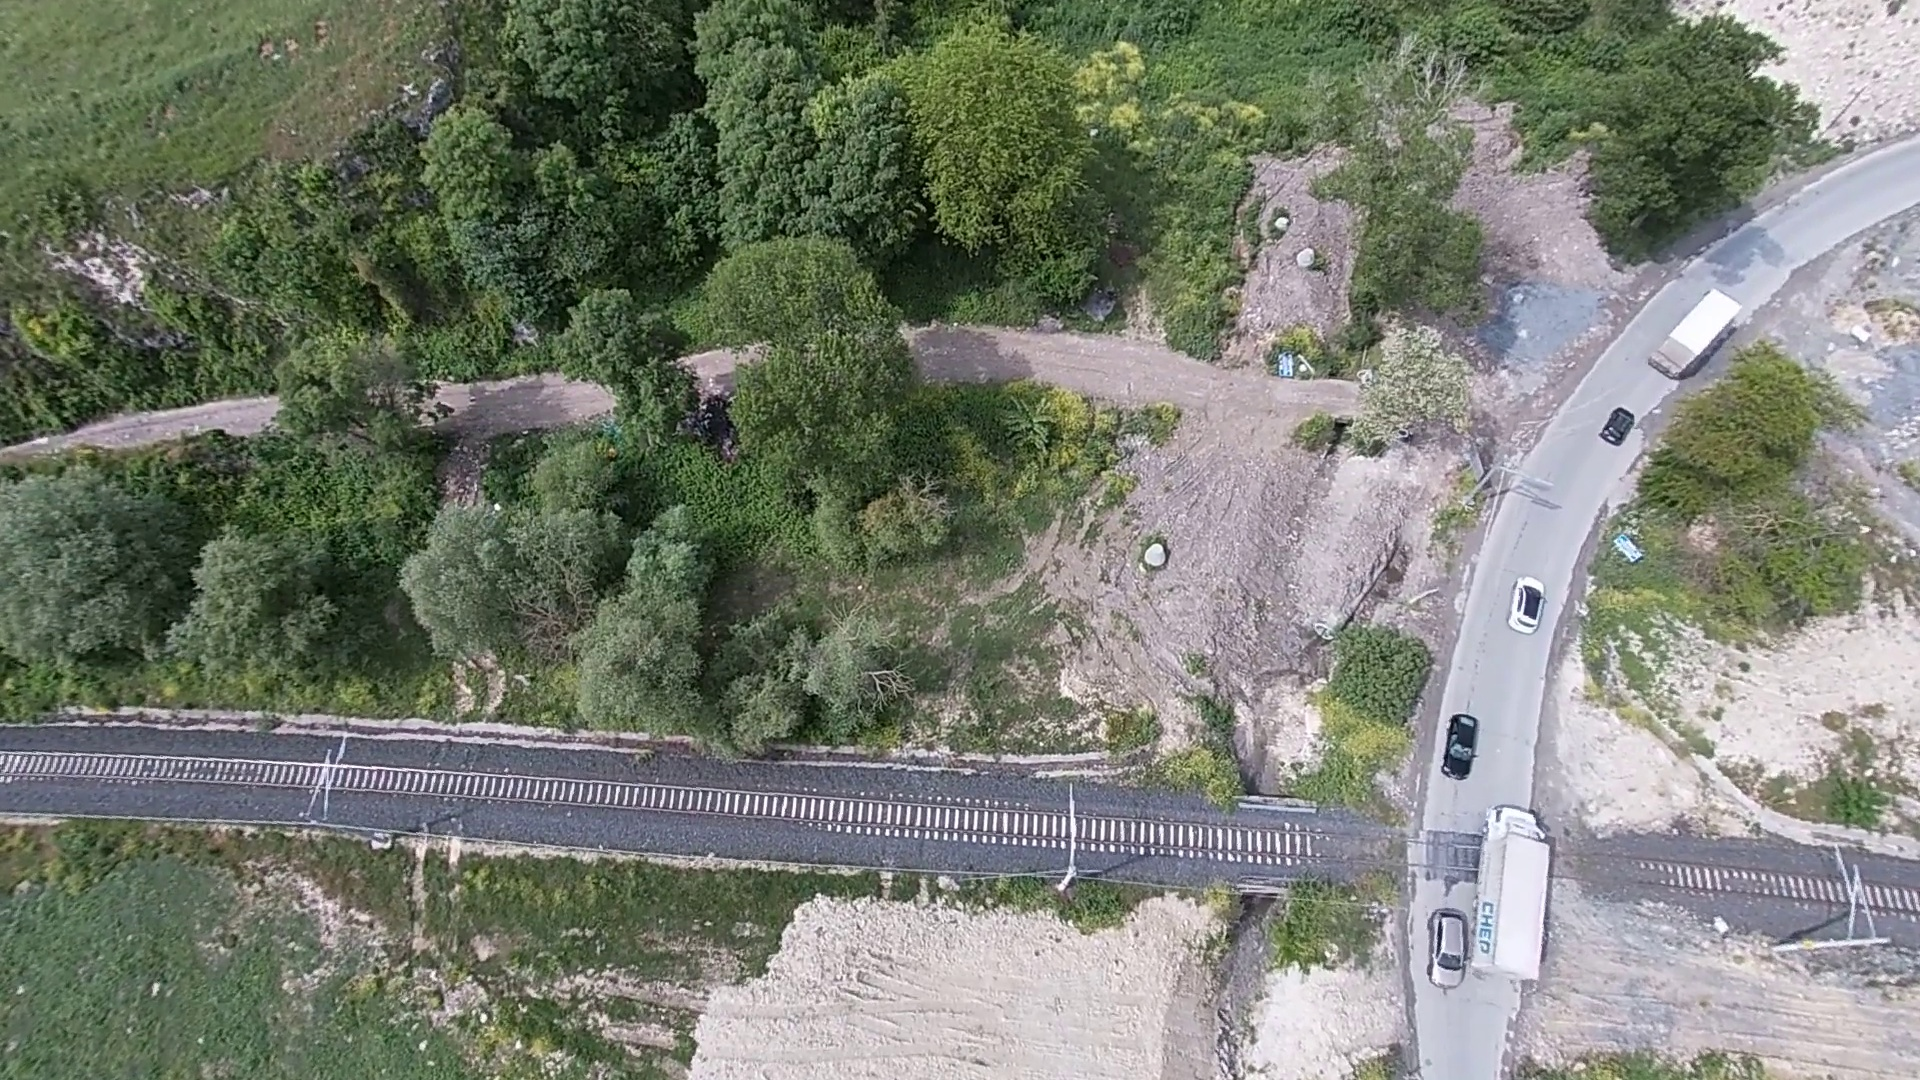arac: (1466, 804, 1567, 1000), (1646, 278, 1746, 386), (1422, 894, 1478, 1000), (1435, 700, 1482, 794), (1498, 571, 1551, 644), (1592, 398, 1646, 455)
